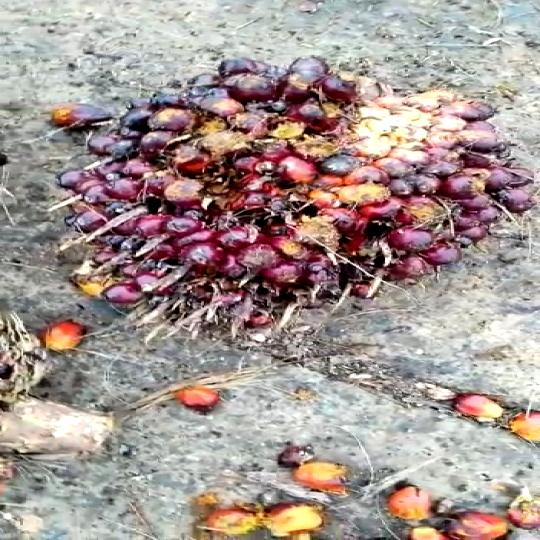masak: (55, 58, 537, 356)
